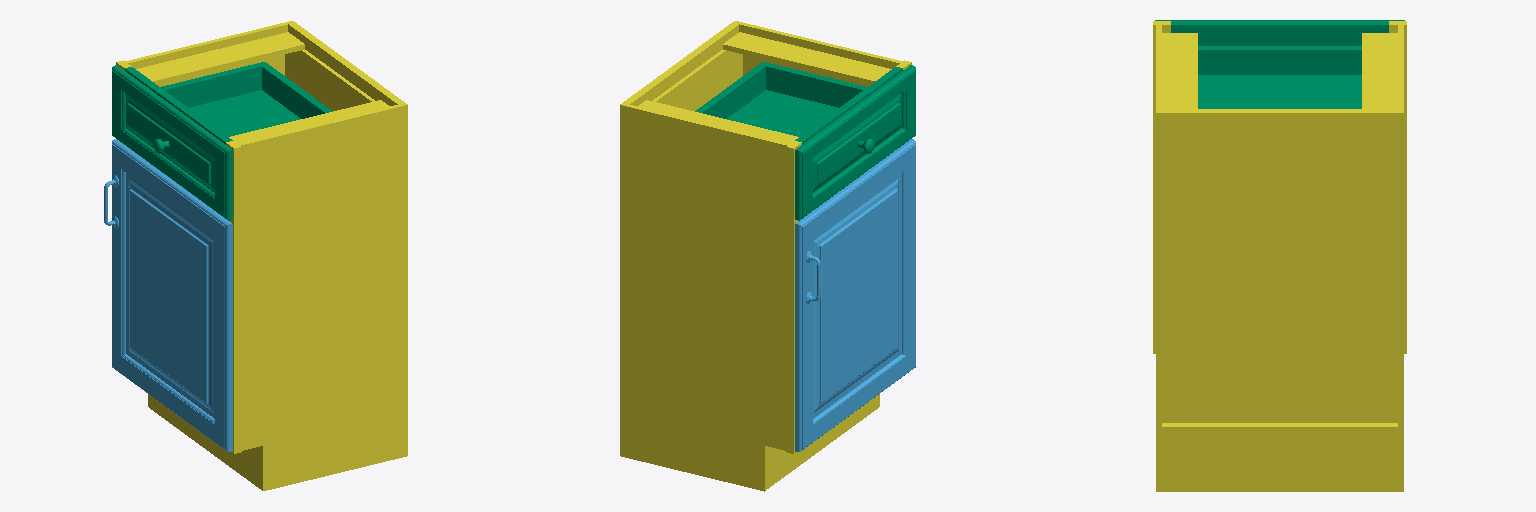
URDF robot description (partnet_3eddbe968ac08030c59350d819542ec7):
<?xml version="1.0" ?>
<robot name="partnet_3eddbe968ac08030c59350d819542ec7">
	<link name="base"/>
	<link name="link_0">
		<visual name="cabinet_door_surface-14">
			<origin xyz="-0.4805844167799997 -0.7438250184059143 -0.38911326983760663"/>
			<geometry>
				<mesh filename="textured_objs/original-57.obj"/>
			</geometry>
		</visual>
		<visual name="cabinet_door_surface-14">
			<origin xyz="-0.4805844167799997 -0.7438250184059143 -0.38911326983760663"/>
			<geometry>
				<mesh filename="textured_objs/original-53.obj"/>
			</geometry>
		</visual>
		<visual name="cabinet_door_surface-14">
			<origin xyz="-0.4805844167799997 -0.7438250184059143 -0.38911326983760663"/>
			<geometry>
				<mesh filename="textured_objs/original-47.obj"/>
			</geometry>
		</visual>
		<visual name="cabinet_door_surface-14">
			<origin xyz="-0.4805844167799997 -0.7438250184059143 -0.38911326983760663"/>
			<geometry>
				<mesh filename="textured_objs/original-51.obj"/>
			</geometry>
		</visual>
		<visual name="cabinet_door_surface-14">
			<origin xyz="-0.4805844167799997 -0.7438250184059143 -0.38911326983760663"/>
			<geometry>
				<mesh filename="textured_objs/original-48.obj"/>
			</geometry>
		</visual>
		<visual name="cabinet_door_surface-14">
			<origin xyz="-0.4805844167799997 -0.7438250184059143 -0.38911326983760663"/>
			<geometry>
				<mesh filename="textured_objs/original-54.obj"/>
			</geometry>
		</visual>
		<visual name="cabinet_door_surface-14">
			<origin xyz="-0.4805844167799997 -0.7438250184059143 -0.38911326983760663"/>
			<geometry>
				<mesh filename="textured_objs/original-52.obj"/>
			</geometry>
		</visual>
		<visual name="cabinet_door_surface-14">
			<origin xyz="-0.4805844167799997 -0.7438250184059143 -0.38911326983760663"/>
			<geometry>
				<mesh filename="textured_objs/original-49.obj"/>
			</geometry>
		</visual>
		<visual name="cabinet_door_surface-14">
			<origin xyz="-0.4805844167799997 -0.7438250184059143 -0.38911326983760663"/>
			<geometry>
				<mesh filename="textured_objs/original-50.obj"/>
			</geometry>
		</visual>
		<visual name="cabinet_door_surface-14">
			<origin xyz="-0.4805844167799997 -0.7438250184059143 -0.38911326983760663"/>
			<geometry>
				<mesh filename="textured_objs/original-56.obj"/>
			</geometry>
		</visual>
		<visual name="handle-15">
			<origin xyz="-0.4805844167799997 -0.7438250184059143 -0.38911326983760663"/>
			<geometry>
				<mesh filename="textured_objs/original-58.obj"/>
			</geometry>
		</visual>
		<collision>
			<origin xyz="-0.4805844167799997 -0.7438250184059143 -0.38911326983760663"/>
			<geometry>
				<mesh filename="textured_objs/original-57.obj"/>
			</geometry>
		</collision>
		<collision>
			<origin xyz="-0.4805844167799997 -0.7438250184059143 -0.38911326983760663"/>
			<geometry>
				<mesh filename="textured_objs/original-53.obj"/>
			</geometry>
		</collision>
		<collision>
			<origin xyz="-0.4805844167799997 -0.7438250184059143 -0.38911326983760663"/>
			<geometry>
				<mesh filename="textured_objs/original-47.obj"/>
			</geometry>
		</collision>
		<collision>
			<origin xyz="-0.4805844167799997 -0.7438250184059143 -0.38911326983760663"/>
			<geometry>
				<mesh filename="textured_objs/original-51.obj"/>
			</geometry>
		</collision>
		<collision>
			<origin xyz="-0.4805844167799997 -0.7438250184059143 -0.38911326983760663"/>
			<geometry>
				<mesh filename="textured_objs/original-48.obj"/>
			</geometry>
		</collision>
		<collision>
			<origin xyz="-0.4805844167799997 -0.7438250184059143 -0.38911326983760663"/>
			<geometry>
				<mesh filename="textured_objs/original-54.obj"/>
			</geometry>
		</collision>
		<collision>
			<origin xyz="-0.4805844167799997 -0.7438250184059143 -0.38911326983760663"/>
			<geometry>
				<mesh filename="textured_objs/original-52.obj"/>
			</geometry>
		</collision>
		<collision>
			<origin xyz="-0.4805844167799997 -0.7438250184059143 -0.38911326983760663"/>
			<geometry>
				<mesh filename="textured_objs/original-49.obj"/>
			</geometry>
		</collision>
		<collision>
			<origin xyz="-0.4805844167799997 -0.7438250184059143 -0.38911326983760663"/>
			<geometry>
				<mesh filename="textured_objs/original-50.obj"/>
			</geometry>
		</collision>
		<collision>
			<origin xyz="-0.4805844167799997 -0.7438250184059143 -0.38911326983760663"/>
			<geometry>
				<mesh filename="textured_objs/original-56.obj"/>
			</geometry>
		</collision>
		<collision>
			<origin xyz="-0.4805844167799997 -0.7438250184059143 -0.38911326983760663"/>
			<geometry>
				<mesh filename="textured_objs/original-58.obj"/>
			</geometry>
		</collision>
	</link>
	<joint name="joint_0" type="revolute">
		<origin xyz="0.4805844167799997 0.7438250184059143 0.38911326983760663"/>
		<axis xyz="0 1 0"/>
		<child link="link_0"/>
		<parent link="link_2"/>
		<limit lower="0.0" upper="3.12413936106985"/>
	</joint>
	<link name="link_1">
		<visual name="drawer_front-9">
			<origin xyz="0 0 0"/>
			<geometry>
				<mesh filename="textured_objs/original-43.obj"/>
			</geometry>
		</visual>
		<visual name="drawer_front-9">
			<origin xyz="0 0 0"/>
			<geometry>
				<mesh filename="textured_objs/original-7.obj"/>
			</geometry>
		</visual>
		<visual name="drawer_front-9">
			<origin xyz="0 0 0"/>
			<geometry>
				<mesh filename="textured_objs/original-39.obj"/>
			</geometry>
		</visual>
		<visual name="drawer_front-9">
			<origin xyz="0 0 0"/>
			<geometry>
				<mesh filename="textured_objs/original-36.obj"/>
			</geometry>
		</visual>
		<visual name="drawer_front-9">
			<origin xyz="0 0 0"/>
			<geometry>
				<mesh filename="textured_objs/original-41.obj"/>
			</geometry>
		</visual>
		<visual name="drawer_front-9">
			<origin xyz="0 0 0"/>
			<geometry>
				<mesh filename="textured_objs/original-35.obj"/>
			</geometry>
		</visual>
		<visual name="drawer_front-9">
			<origin xyz="0 0 0"/>
			<geometry>
				<mesh filename="textured_objs/original-44.obj"/>
			</geometry>
		</visual>
		<visual name="drawer_front-9">
			<origin xyz="0 0 0"/>
			<geometry>
				<mesh filename="textured_objs/original-26.obj"/>
			</geometry>
		</visual>
		<visual name="drawer_front-9">
			<origin xyz="0 0 0"/>
			<geometry>
				<mesh filename="textured_objs/original-38.obj"/>
			</geometry>
		</visual>
		<visual name="drawer_front-9">
			<origin xyz="0 0 0"/>
			<geometry>
				<mesh filename="textured_objs/original-40.obj"/>
			</geometry>
		</visual>
		<visual name="drawer_front-9">
			<origin xyz="0 0 0"/>
			<geometry>
				<mesh filename="textured_objs/original-34.obj"/>
			</geometry>
		</visual>
		<visual name="drawer_front-9">
			<origin xyz="0 0 0"/>
			<geometry>
				<mesh filename="textured_objs/original-37.obj"/>
			</geometry>
		</visual>
		<visual name="drawer_side-10">
			<origin xyz="0 0 0"/>
			<geometry>
				<mesh filename="textured_objs/original-25.obj"/>
			</geometry>
		</visual>
		<visual name="drawer_side-11">
			<origin xyz="0 0 0"/>
			<geometry>
				<mesh filename="textured_objs/original-30.obj"/>
			</geometry>
		</visual>
		<visual name="drawer_side-11">
			<origin xyz="0 0 0"/>
			<geometry>
				<mesh filename="textured_objs/original-32.obj"/>
			</geometry>
		</visual>
		<visual name="drawer_back-12">
			<origin xyz="0 0 0"/>
			<geometry>
				<mesh filename="textured_objs/original-31.obj"/>
			</geometry>
		</visual>
		<visual name="drawer_bottom-13">
			<origin xyz="0 0 0"/>
			<geometry>
				<mesh filename="textured_objs/original-29.obj"/>
			</geometry>
		</visual>
		<visual name="drawer_bottom-13">
			<origin xyz="0 0 0"/>
			<geometry>
				<mesh filename="textured_objs/original-28.obj"/>
			</geometry>
		</visual>
		<visual name="handle-8">
			<origin xyz="0 0 0"/>
			<geometry>
				<mesh filename="textured_objs/original-45.obj"/>
			</geometry>
		</visual>
		<collision>
			<origin xyz="0 0 0"/>
			<geometry>
				<mesh filename="textured_objs/original-43.obj"/>
			</geometry>
		</collision>
		<collision>
			<origin xyz="0 0 0"/>
			<geometry>
				<mesh filename="textured_objs/original-7.obj"/>
			</geometry>
		</collision>
		<collision>
			<origin xyz="0 0 0"/>
			<geometry>
				<mesh filename="textured_objs/original-39.obj"/>
			</geometry>
		</collision>
		<collision>
			<origin xyz="0 0 0"/>
			<geometry>
				<mesh filename="textured_objs/original-36.obj"/>
			</geometry>
		</collision>
		<collision>
			<origin xyz="0 0 0"/>
			<geometry>
				<mesh filename="textured_objs/original-41.obj"/>
			</geometry>
		</collision>
		<collision>
			<origin xyz="0 0 0"/>
			<geometry>
				<mesh filename="textured_objs/original-35.obj"/>
			</geometry>
		</collision>
		<collision>
			<origin xyz="0 0 0"/>
			<geometry>
				<mesh filename="textured_objs/original-44.obj"/>
			</geometry>
		</collision>
		<collision>
			<origin xyz="0 0 0"/>
			<geometry>
				<mesh filename="textured_objs/original-26.obj"/>
			</geometry>
		</collision>
		<collision>
			<origin xyz="0 0 0"/>
			<geometry>
				<mesh filename="textured_objs/original-38.obj"/>
			</geometry>
		</collision>
		<collision>
			<origin xyz="0 0 0"/>
			<geometry>
				<mesh filename="textured_objs/original-40.obj"/>
			</geometry>
		</collision>
		<collision>
			<origin xyz="0 0 0"/>
			<geometry>
				<mesh filename="textured_objs/original-34.obj"/>
			</geometry>
		</collision>
		<collision>
			<origin xyz="0 0 0"/>
			<geometry>
				<mesh filename="textured_objs/original-37.obj"/>
			</geometry>
		</collision>
		<collision>
			<origin xyz="0 0 0"/>
			<geometry>
				<mesh filename="textured_objs/original-25.obj"/>
			</geometry>
		</collision>
		<collision>
			<origin xyz="0 0 0"/>
			<geometry>
				<mesh filename="textured_objs/original-30.obj"/>
			</geometry>
		</collision>
		<collision>
			<origin xyz="0 0 0"/>
			<geometry>
				<mesh filename="textured_objs/original-32.obj"/>
			</geometry>
		</collision>
		<collision>
			<origin xyz="0 0 0"/>
			<geometry>
				<mesh filename="textured_objs/original-31.obj"/>
			</geometry>
		</collision>
		<collision>
			<origin xyz="0 0 0"/>
			<geometry>
				<mesh filename="textured_objs/original-29.obj"/>
			</geometry>
		</collision>
		<collision>
			<origin xyz="0 0 0"/>
			<geometry>
				<mesh filename="textured_objs/original-28.obj"/>
			</geometry>
		</collision>
		<collision>
			<origin xyz="0 0 0"/>
			<geometry>
				<mesh filename="textured_objs/original-45.obj"/>
			</geometry>
		</collision>
	</link>
	<joint name="joint_1" type="prismatic">
		<origin xyz="0 0 0"/>
		<axis xyz="0 0 1"/>
		<child link="link_1"/>
		<parent link="link_2"/>
		<limit lower="0" upper="0.48"/>
	</joint>
	<link name="link_2">
		<visual name="shelf-4">
			<origin xyz="0 0 0"/>
			<geometry>
				<mesh filename="textured_objs/original-2.obj"/>
			</geometry>
		</visual>
		<visual name="vertical_side_panel-21">
			<origin xyz="0 0 0"/>
			<geometry>
				<mesh filename="textured_objs/original-16.obj"/>
			</geometry>
		</visual>
		<visual name="vertical_side_panel-21">
			<origin xyz="0 0 0"/>
			<geometry>
				<mesh filename="textured_objs/original-15.obj"/>
			</geometry>
		</visual>
		<visual name="vertical_side_panel-22">
			<origin xyz="0 0 0"/>
			<geometry>
				<mesh filename="textured_objs/original-11.obj"/>
			</geometry>
		</visual>
		<visual name="vertical_side_panel-22">
			<origin xyz="0 0 0"/>
			<geometry>
				<mesh filename="textured_objs/original-12.obj"/>
			</geometry>
		</visual>
		<visual name="back_panel-23">
			<origin xyz="0 0 0"/>
			<geometry>
				<mesh filename="textured_objs/original-6.obj"/>
			</geometry>
		</visual>
		<visual name="back_panel-23">
			<origin xyz="0 0 0"/>
			<geometry>
				<mesh filename="textured_objs/original-59.obj"/>
			</geometry>
		</visual>
		<visual name="bottom_panel-24">
			<origin xyz="0 0 0"/>
			<geometry>
				<mesh filename="textured_objs/original-3.obj"/>
			</geometry>
		</visual>
		<visual name="bottom_panel-24">
			<origin xyz="0 0 0"/>
			<geometry>
				<mesh filename="textured_objs/original-9.obj"/>
			</geometry>
		</visual>
		<visual name="frame_vertical_bar-25">
			<origin xyz="0 0 0"/>
			<geometry>
				<mesh filename="textured_objs/original-8.obj"/>
			</geometry>
		</visual>
		<visual name="frame_vertical_bar-26">
			<origin xyz="0 0 0"/>
			<geometry>
				<mesh filename="textured_objs/original-4.obj"/>
			</geometry>
		</visual>
		<visual name="frame_horizontal_bar-35">
			<origin xyz="0 0 0"/>
			<geometry>
				<mesh filename="textured_objs/original-18.obj"/>
			</geometry>
		</visual>
		<visual name="frame_horizontal_bar-36">
			<origin xyz="0 0 0"/>
			<geometry>
				<mesh filename="textured_objs/original-5.obj"/>
			</geometry>
		</visual>
		<visual name="frame_horizontal_bar-37">
			<origin xyz="0 0 0"/>
			<geometry>
				<mesh filename="textured_objs/original-22.obj"/>
			</geometry>
		</visual>
		<visual name="frame_horizontal_bar-38">
			<origin xyz="0 0 0"/>
			<geometry>
				<mesh filename="textured_objs/original-21.obj"/>
			</geometry>
		</visual>
		<visual name="base_side_panel-17">
			<origin xyz="0 0 0"/>
			<geometry>
				<mesh filename="textured_objs/original-19.obj"/>
			</geometry>
		</visual>
		<visual name="base_side_panel-18">
			<origin xyz="0 0 0"/>
			<geometry>
				<mesh filename="textured_objs/original-13.obj"/>
			</geometry>
		</visual>
		<visual name="base_side_panel-19">
			<origin xyz="0 0 0"/>
			<geometry>
				<mesh filename="textured_objs/original-20.obj"/>
			</geometry>
		</visual>
		<visual name="base_side_panel-20">
			<origin xyz="0 0 0"/>
			<geometry>
				<mesh filename="textured_objs/original-17.obj"/>
			</geometry>
		</visual>
		<collision>
			<origin xyz="0 0 0"/>
			<geometry>
				<mesh filename="textured_objs/original-2.obj"/>
			</geometry>
		</collision>
		<collision>
			<origin xyz="0 0 0"/>
			<geometry>
				<mesh filename="textured_objs/original-16.obj"/>
			</geometry>
		</collision>
		<collision>
			<origin xyz="0 0 0"/>
			<geometry>
				<mesh filename="textured_objs/original-15.obj"/>
			</geometry>
		</collision>
		<collision>
			<origin xyz="0 0 0"/>
			<geometry>
				<mesh filename="textured_objs/original-11.obj"/>
			</geometry>
		</collision>
		<collision>
			<origin xyz="0 0 0"/>
			<geometry>
				<mesh filename="textured_objs/original-12.obj"/>
			</geometry>
		</collision>
		<collision>
			<origin xyz="0 0 0"/>
			<geometry>
				<mesh filename="textured_objs/original-6.obj"/>
			</geometry>
		</collision>
		<collision>
			<origin xyz="0 0 0"/>
			<geometry>
				<mesh filename="textured_objs/original-59.obj"/>
			</geometry>
		</collision>
		<collision>
			<origin xyz="0 0 0"/>
			<geometry>
				<mesh filename="textured_objs/original-3.obj"/>
			</geometry>
		</collision>
		<collision>
			<origin xyz="0 0 0"/>
			<geometry>
				<mesh filename="textured_objs/original-9.obj"/>
			</geometry>
		</collision>
		<collision>
			<origin xyz="0 0 0"/>
			<geometry>
				<mesh filename="textured_objs/original-8.obj"/>
			</geometry>
		</collision>
		<collision>
			<origin xyz="0 0 0"/>
			<geometry>
				<mesh filename="textured_objs/original-4.obj"/>
			</geometry>
		</collision>
		<collision>
			<origin xyz="0 0 0"/>
			<geometry>
				<mesh filename="textured_objs/original-18.obj"/>
			</geometry>
		</collision>
		<collision>
			<origin xyz="0 0 0"/>
			<geometry>
				<mesh filename="textured_objs/original-5.obj"/>
			</geometry>
		</collision>
		<collision>
			<origin xyz="0 0 0"/>
			<geometry>
				<mesh filename="textured_objs/original-22.obj"/>
			</geometry>
		</collision>
		<collision>
			<origin xyz="0 0 0"/>
			<geometry>
				<mesh filename="textured_objs/original-21.obj"/>
			</geometry>
		</collision>
		<collision>
			<origin xyz="0 0 0"/>
			<geometry>
				<mesh filename="textured_objs/original-19.obj"/>
			</geometry>
		</collision>
		<collision>
			<origin xyz="0 0 0"/>
			<geometry>
				<mesh filename="textured_objs/original-13.obj"/>
			</geometry>
		</collision>
		<collision>
			<origin xyz="0 0 0"/>
			<geometry>
				<mesh filename="textured_objs/original-20.obj"/>
			</geometry>
		</collision>
		<collision>
			<origin xyz="0 0 0"/>
			<geometry>
				<mesh filename="textured_objs/original-17.obj"/>
			</geometry>
		</collision>
	</link>
	<joint name="joint_2" type="fixed">
		<origin rpy="1.570796326794897 0 -1.570796326794897" xyz="0 0 0"/>
		<child link="link_2"/>
		<parent link="base"/>
	</joint>
</robot>

--- Render facts (derived) ---
The picture shows the robot from 3 angles, left to right: view 1: azimuth 30°, elevation 25°; view 2: azimuth 150°, elevation 25°; view 3: azimuth 270°, elevation 25°; orthographic projection.
Model partnet_3eddbe968ac08030c59350d819542ec7 with 4 links and 3 joints (1 revolute, 1 prismatic, 1 fixed), rooted at base, posed all joints at 0.
Visible links, largest first — view 1: link_2, link_0, link_1; view 2: link_2, link_0, link_1; view 3: link_2, link_1.
Link boxes in pixels (left/top/right/bottom): link_2: left=116, top=21, right=407, bottom=490; link_0: left=104, top=139, right=232, bottom=451; link_1: left=112, top=62, right=332, bottom=220; link_2: left=620, top=21, right=911, bottom=491; link_0: left=795, top=139, right=915, bottom=451; link_1: left=695, top=62, right=915, bottom=220; link_2: left=1153, top=21, right=1406, bottom=491; link_1: left=1155, top=20, right=1404, bottom=108.
Bounding box of the posed robot: 0.9248 × 0.968 × 1.59 m (x, y, z).
Meshes: 49 distinct files referenced, 49 mesh visuals loaded (49 OBJ).
